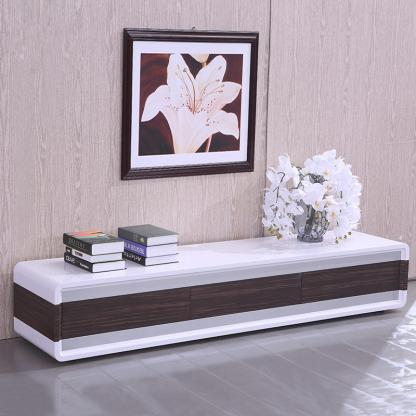TV stand: (8, 225, 414, 361)
